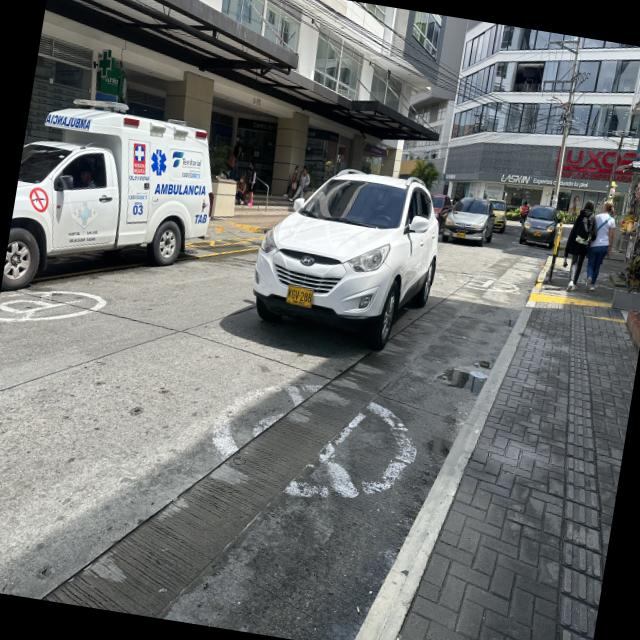number plate: (286, 285, 313, 308)
